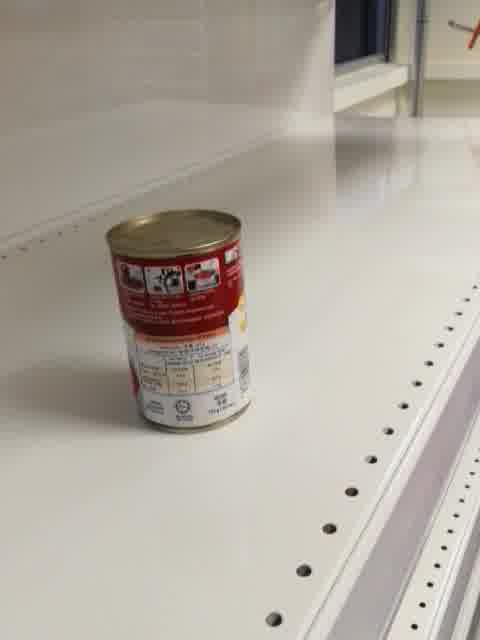tomatosoup: (101, 207, 254, 438)
